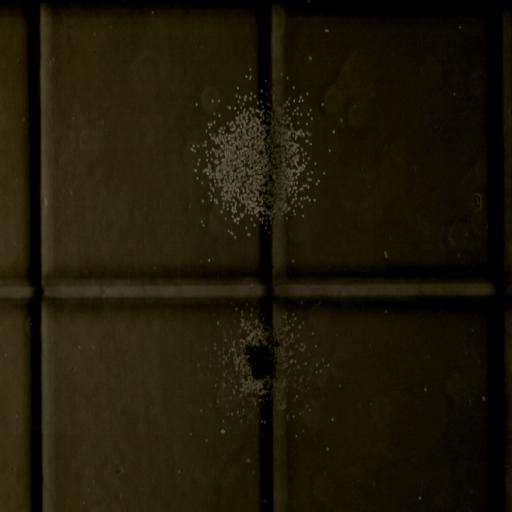CFU-GM: (201, 92, 311, 225)
